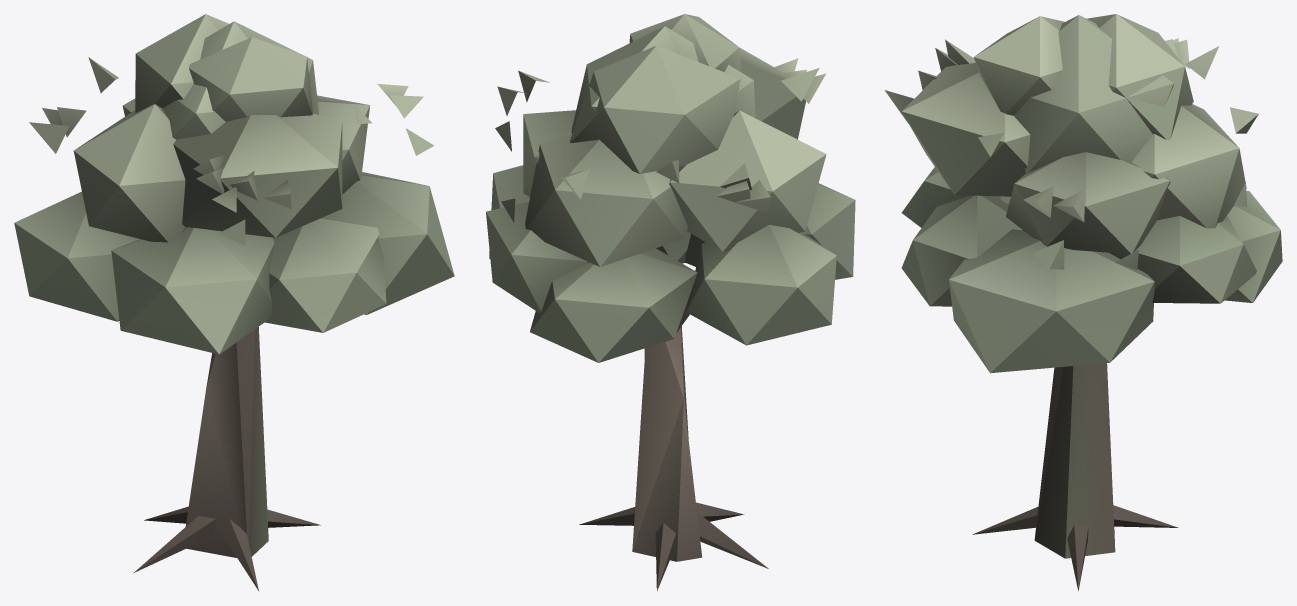
File: oak.lod1.glb
3 views of the same model, side by side, from view 1: azimuth 30°, elevation 25°; view 2: azimuth 150°, elevation 25°; view 3: azimuth 270°, elevation 25° (orthographic). The views are drawn at different scales.
Size of the model in its own units: 4.91 by 6.62 by 4.48.
